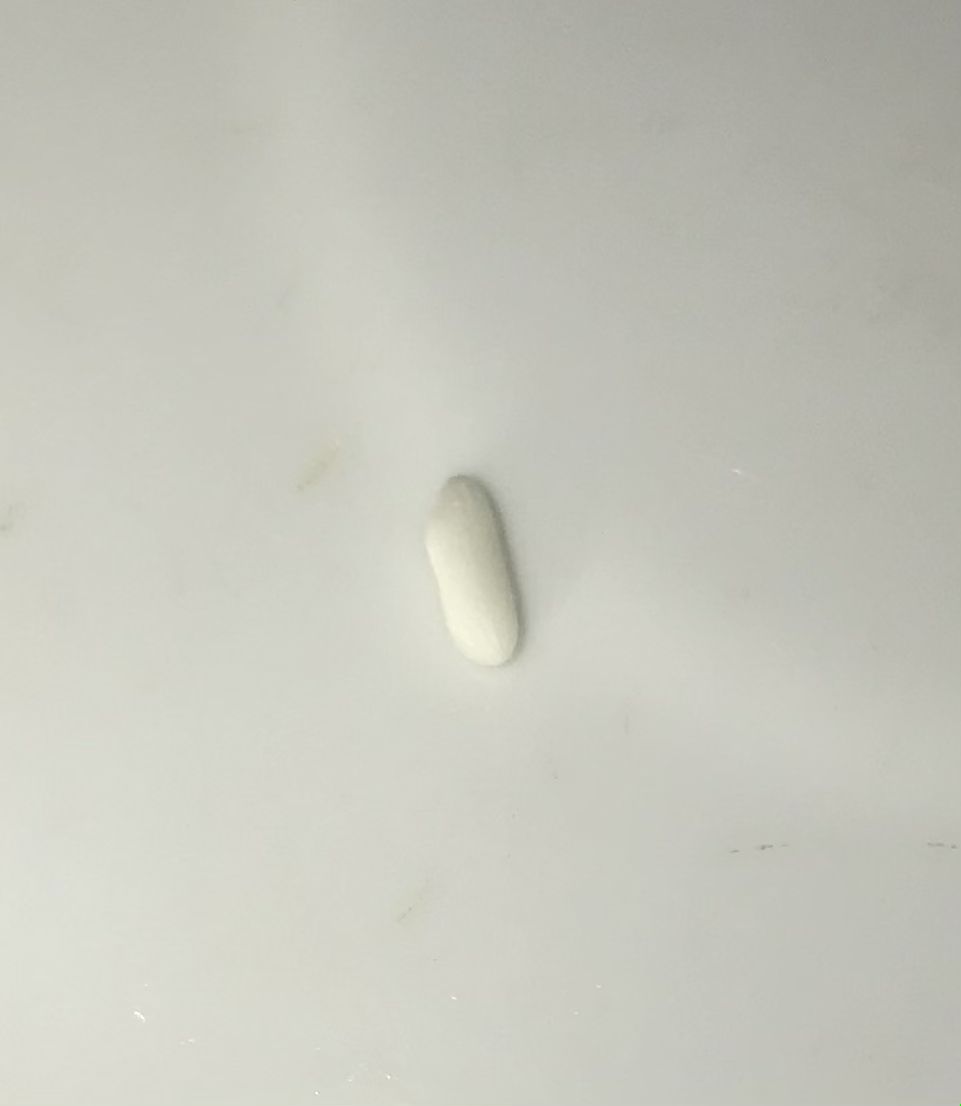Gao Nep Sap: (396, 458, 556, 680)
